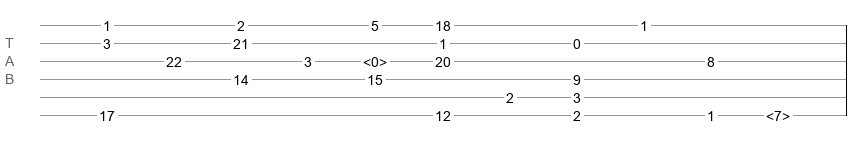0: (573, 36, 581, 46)
1: (103, 18, 111, 28), (439, 36, 447, 46), (640, 18, 648, 28), (707, 108, 715, 118)
12: (435, 108, 451, 118)
14: (233, 72, 249, 82)
15: (367, 72, 383, 82)
17: (99, 108, 115, 118)
18: (435, 18, 451, 28)
2: (237, 18, 245, 28), (506, 90, 514, 100), (573, 108, 581, 118)
20: (435, 54, 451, 64)
21: (233, 36, 249, 46)
22: (166, 54, 182, 64)
3: (103, 36, 111, 46), (304, 54, 312, 64), (573, 90, 581, 100)
5: (371, 18, 379, 28)
8: (707, 54, 715, 64)
9: (573, 72, 581, 82)
harmonic: (363, 54, 387, 64), (766, 108, 790, 118)
